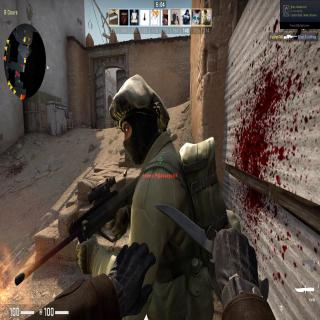CT-Body: (97, 69, 237, 318)
CT-Head: (110, 76, 164, 154)
